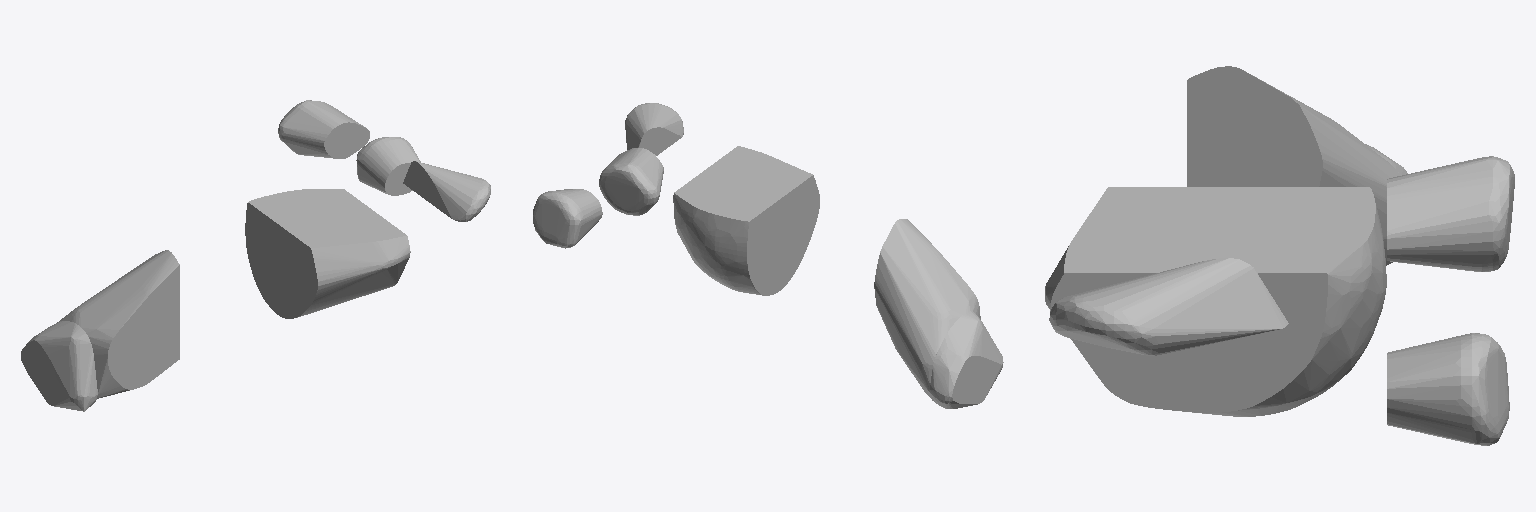
URDF robot description (root):
<robot name="root">
  <link name="link_coacd_convex_piece_0">
    <inertial>
      <origin xyz="0 0 0" rpy="0 0 0"/>
      <inertia ixx="1.80E-09" ixy="-1.58E-09" ixz="-1.64E-09" iyy="3.77E-09" iyz="-9.73E-10" izz="3.57E-09"/>
    </inertial>
    <visual>
      <origin xyz="0 0 0" rpy="0 0 0"/>
      <geometry>
        <mesh filename="coacd_convex_piece_0.obj" scale="1.0000E+00 1.0000E+00 1.0000E+00"/>
      </geometry>
      <material name="">
        <color rgba="7.50E-01 7.50E-01 7.50E-01 1"/>
      </material>
    </visual>
    <collision>
      <origin xyz="0 0 0" rpy="0 0 0"/>
      <geometry>
        <mesh filename="coacd_convex_piece_0.obj" scale="1.0000E+00 1.0000E+00 1.0000E+00"/>
      </geometry>
    </collision>
  </link>
  <link name="link_coacd_convex_piece_1">
    <inertial>
      <origin xyz="0 0 0" rpy="0 0 0"/>
      <inertia ixx="6.96E-10" ixy="-1.86E-09" ixz="-7.25E-10" iyy="5.26E-09" iyz="-3.09E-10" izz="5.77E-09"/>
    </inertial>
    <visual>
      <origin xyz="0 0 0" rpy="0 0 0"/>
      <geometry>
        <mesh filename="coacd_convex_piece_1.obj" scale="1.0000E+00 1.0000E+00 1.0000E+00"/>
      </geometry>
      <material name="">
        <color rgba="7.50E-01 7.50E-01 7.50E-01 1"/>
      </material>
    </visual>
    <collision>
      <origin xyz="0 0 0" rpy="0 0 0"/>
      <geometry>
        <mesh filename="coacd_convex_piece_1.obj" scale="1.0000E+00 1.0000E+00 1.0000E+00"/>
      </geometry>
    </collision>
  </link>
  <joint name="link_coacd_convex_piece_1_joint" type="fixed">
    <origin xyz="0 0 0" rpy="0 0 0"/>
    <parent link="link_coacd_convex_piece_0"/>
    <child link="link_coacd_convex_piece_1"/>
  </joint>
  <link name="link_coacd_convex_piece_2">
    <inertial>
      <origin xyz="0 0 0" rpy="0 0 0"/>
      <inertia ixx="9.32E-10" ixy="-8.90E-11" ixz="5.58E-11" iyy="-7.29E-11" iyz="-1.50E-11" izz="8.99E-10"/>
    </inertial>
    <visual>
      <origin xyz="0 0 0" rpy="0 0 0"/>
      <geometry>
        <mesh filename="coacd_convex_piece_2.obj" scale="1.0000E+00 1.0000E+00 1.0000E+00"/>
      </geometry>
      <material name="">
        <color rgba="7.50E-01 7.50E-01 7.50E-01 1"/>
      </material>
    </visual>
    <collision>
      <origin xyz="0 0 0" rpy="0 0 0"/>
      <geometry>
        <mesh filename="coacd_convex_piece_2.obj" scale="1.0000E+00 1.0000E+00 1.0000E+00"/>
      </geometry>
    </collision>
  </link>
  <joint name="link_coacd_convex_piece_2_joint" type="fixed">
    <origin xyz="0 0 0" rpy="0 0 0"/>
    <parent link="link_coacd_convex_piece_1"/>
    <child link="link_coacd_convex_piece_2"/>
  </joint>
  <link name="link_coacd_convex_piece_3">
    <inertial>
      <origin xyz="0 0 0" rpy="0 0 0"/>
      <inertia ixx="2.76E-10" ixy="-6.95E-10" ixz="-1.98E-10" iyy="1.62E-09" iyz="-1.10E-10" izz="1.85E-09"/>
    </inertial>
    <visual>
      <origin xyz="0 0 0" rpy="0 0 0"/>
      <geometry>
        <mesh filename="coacd_convex_piece_3.obj" scale="1.0000E+00 1.0000E+00 1.0000E+00"/>
      </geometry>
      <material name="">
        <color rgba="7.50E-01 7.50E-01 7.50E-01 1"/>
      </material>
    </visual>
    <collision>
      <origin xyz="0 0 0" rpy="0 0 0"/>
      <geometry>
        <mesh filename="coacd_convex_piece_3.obj" scale="1.0000E+00 1.0000E+00 1.0000E+00"/>
      </geometry>
    </collision>
  </link>
  <joint name="link_coacd_convex_piece_3_joint" type="fixed">
    <origin xyz="0 0 0" rpy="0 0 0"/>
    <parent link="link_coacd_convex_piece_2"/>
    <child link="link_coacd_convex_piece_3"/>
  </joint>
  <link name="link_coacd_convex_piece_4">
    <inertial>
      <origin xyz="0 0 0" rpy="0 0 0"/>
      <inertia ixx="7.72E-10" ixy="1.19E-09" ixz="-1.23E-09" iyy="4.30E-09" iyz="3.58E-10" izz="4.30E-09"/>
    </inertial>
    <visual>
      <origin xyz="0 0 0" rpy="0 0 0"/>
      <geometry>
        <mesh filename="coacd_convex_piece_4.obj" scale="1.0000E+00 1.0000E+00 1.0000E+00"/>
      </geometry>
      <material name="">
        <color rgba="7.50E-01 7.50E-01 7.50E-01 1"/>
      </material>
    </visual>
    <collision>
      <origin xyz="0 0 0" rpy="0 0 0"/>
      <geometry>
        <mesh filename="coacd_convex_piece_4.obj" scale="1.0000E+00 1.0000E+00 1.0000E+00"/>
      </geometry>
    </collision>
  </link>
  <joint name="link_coacd_convex_piece_4_joint" type="fixed">
    <origin xyz="0 0 0" rpy="0 0 0"/>
    <parent link="link_coacd_convex_piece_3"/>
    <child link="link_coacd_convex_piece_4"/>
  </joint>
  <link name="link_coacd_convex_piece_5">
    <inertial>
      <origin xyz="0 0 0" rpy="0 0 0"/>
      <inertia ixx="2.10E-09" ixy="-2.93E-09" ixz="-1.32E-09" iyy="5.38E-09" iyz="-9.49E-10" izz="6.27E-09"/>
    </inertial>
    <visual>
      <origin xyz="0 0 0" rpy="0 0 0"/>
      <geometry>
        <mesh filename="coacd_convex_piece_5.obj" scale="1.0000E+00 1.0000E+00 1.0000E+00"/>
      </geometry>
      <material name="">
        <color rgba="7.50E-01 7.50E-01 7.50E-01 1"/>
      </material>
    </visual>
    <collision>
      <origin xyz="0 0 0" rpy="0 0 0"/>
      <geometry>
        <mesh filename="coacd_convex_piece_5.obj" scale="1.0000E+00 1.0000E+00 1.0000E+00"/>
      </geometry>
    </collision>
  </link>
  <joint name="link_coacd_convex_piece_5_joint" type="fixed">
    <origin xyz="0 0 0" rpy="0 0 0"/>
    <parent link="link_coacd_convex_piece_4"/>
    <child link="link_coacd_convex_piece_5"/>
  </joint>
  <link name="link_coacd_convex_piece_6">
    <inertial>
      <origin xyz="0 0 0" rpy="0 0 0"/>
      <inertia ixx="1.08E-09" ixy="-9.00E-10" ixz="-2.57E-09" iyy="1.32E-08" iyz="-3.04E-10" izz="1.24E-08"/>
    </inertial>
    <visual>
      <origin xyz="0 0 0" rpy="0 0 0"/>
      <geometry>
        <mesh filename="coacd_convex_piece_6.obj" scale="1.0000E+00 1.0000E+00 1.0000E+00"/>
      </geometry>
      <material name="">
        <color rgba="7.50E-01 7.50E-01 7.50E-01 1"/>
      </material>
    </visual>
    <collision>
      <origin xyz="0 0 0" rpy="0 0 0"/>
      <geometry>
        <mesh filename="coacd_convex_piece_6.obj" scale="1.0000E+00 1.0000E+00 1.0000E+00"/>
      </geometry>
    </collision>
  </link>
  <joint name="link_coacd_convex_piece_6_joint" type="fixed">
    <origin xyz="0 0 0" rpy="0 0 0"/>
    <parent link="link_coacd_convex_piece_5"/>
    <child link="link_coacd_convex_piece_6"/>
  </joint>
  <link name="link_coacd_convex_piece_7">
    <inertial>
      <origin xyz="0 0 0" rpy="0 0 0"/>
      <inertia ixx="2.28E-09" ixy="-1.54E-10" ixz="9.23E-11" iyy="9.18E-10" iyz="9.61E-11" izz="1.02E-09"/>
    </inertial>
    <visual>
      <origin xyz="0 0 0" rpy="0 0 0"/>
      <geometry>
        <mesh filename="coacd_convex_piece_7.obj" scale="1.0000E+00 1.0000E+00 1.0000E+00"/>
      </geometry>
      <material name="">
        <color rgba="7.50E-01 7.50E-01 7.50E-01 1"/>
      </material>
    </visual>
    <collision>
      <origin xyz="0 0 0" rpy="0 0 0"/>
      <geometry>
        <mesh filename="coacd_convex_piece_7.obj" scale="1.0000E+00 1.0000E+00 1.0000E+00"/>
      </geometry>
    </collision>
  </link>
  <joint name="link_coacd_convex_piece_7_joint" type="fixed">
    <origin xyz="0 0 0" rpy="0 0 0"/>
    <parent link="link_coacd_convex_piece_6"/>
    <child link="link_coacd_convex_piece_7"/>
  </joint>
  <link name="link_coacd_convex_piece_8">
    <inertial>
      <origin xyz="0 0 0" rpy="0 0 0"/>
      <inertia ixx="2.67E-09" ixy="2.41E-09" ixz="-8.47E-10" iyy="8.68E-09" iyz="1.14E-10" izz="1.04E-08"/>
    </inertial>
    <visual>
      <origin xyz="0 0 0" rpy="0 0 0"/>
      <geometry>
        <mesh filename="coacd_convex_piece_8.obj" scale="1.0000E+00 1.0000E+00 1.0000E+00"/>
      </geometry>
      <material name="">
        <color rgba="7.50E-01 7.50E-01 7.50E-01 1"/>
      </material>
    </visual>
    <collision>
      <origin xyz="0 0 0" rpy="0 0 0"/>
      <geometry>
        <mesh filename="coacd_convex_piece_8.obj" scale="1.0000E+00 1.0000E+00 1.0000E+00"/>
      </geometry>
    </collision>
  </link>
  <joint name="link_coacd_convex_piece_8_joint" type="fixed">
    <origin xyz="0 0 0" rpy="0 0 0"/>
    <parent link="link_coacd_convex_piece_7"/>
    <child link="link_coacd_convex_piece_8"/>
  </joint>
  <link name="link_coacd_convex_piece_9">
    <inertial>
      <origin xyz="0 0 0" rpy="0 0 0"/>
      <inertia ixx="3.67E-09" ixy="-2.48E-09" ixz="1.26E-09" iyy="4.08E-09" iyz="-3.94E-10" izz="5.13E-09"/>
    </inertial>
    <visual>
      <origin xyz="0 0 0" rpy="0 0 0"/>
      <geometry>
        <mesh filename="coacd_convex_piece_9.obj" scale="1.0000E+00 1.0000E+00 1.0000E+00"/>
      </geometry>
      <material name="">
        <color rgba="7.50E-01 7.50E-01 7.50E-01 1"/>
      </material>
    </visual>
    <collision>
      <origin xyz="0 0 0" rpy="0 0 0"/>
      <geometry>
        <mesh filename="coacd_convex_piece_9.obj" scale="1.0000E+00 1.0000E+00 1.0000E+00"/>
      </geometry>
    </collision>
  </link>
  <joint name="link_coacd_convex_piece_9_joint" type="fixed">
    <origin xyz="0 0 0" rpy="0 0 0"/>
    <parent link="link_coacd_convex_piece_8"/>
    <child link="link_coacd_convex_piece_9"/>
  </joint>
  <link name="link_coacd_convex_piece_10">
    <inertial>
      <origin xyz="0 0 0" rpy="0 0 0"/>
      <inertia ixx="4.13E-09" ixy="2.26E-09" ixz="-5.75E-09" iyy="1.42E-08" iyz="1.13E-09" izz="1.19E-08"/>
    </inertial>
    <visual>
      <origin xyz="0 0 0" rpy="0 0 0"/>
      <geometry>
        <mesh filename="coacd_convex_piece_10.obj" scale="1.0000E+00 1.0000E+00 1.0000E+00"/>
      </geometry>
      <material name="">
        <color rgba="7.50E-01 7.50E-01 7.50E-01 1"/>
      </material>
    </visual>
    <collision>
      <origin xyz="0 0 0" rpy="0 0 0"/>
      <geometry>
        <mesh filename="coacd_convex_piece_10.obj" scale="1.0000E+00 1.0000E+00 1.0000E+00"/>
      </geometry>
    </collision>
  </link>
  <joint name="link_coacd_convex_piece_10_joint" type="fixed">
    <origin xyz="0 0 0" rpy="0 0 0"/>
    <parent link="link_coacd_convex_piece_9"/>
    <child link="link_coacd_convex_piece_10"/>
  </joint>
  <link name="link_coacd_convex_piece_11">
    <inertial>
      <origin xyz="0 0 0" rpy="0 0 0"/>
      <inertia ixx="2.56E-09" ixy="4.97E-10" ixz="-1.88E-09" iyy="3.96E-09" iyz="5.38E-10" izz="2.33E-09"/>
    </inertial>
    <visual>
      <origin xyz="0 0 0" rpy="0 0 0"/>
      <geometry>
        <mesh filename="coacd_convex_piece_11.obj" scale="1.0000E+00 1.0000E+00 1.0000E+00"/>
      </geometry>
      <material name="">
        <color rgba="7.50E-01 7.50E-01 7.50E-01 1"/>
      </material>
    </visual>
    <collision>
      <origin xyz="0 0 0" rpy="0 0 0"/>
      <geometry>
        <mesh filename="coacd_convex_piece_11.obj" scale="1.0000E+00 1.0000E+00 1.0000E+00"/>
      </geometry>
    </collision>
  </link>
  <joint name="link_coacd_convex_piece_11_joint" type="fixed">
    <origin xyz="0 0 0" rpy="0 0 0"/>
    <parent link="link_coacd_convex_piece_10"/>
    <child link="link_coacd_convex_piece_11"/>
  </joint>
  <link name="link_coacd_convex_piece_12">
    <inertial>
      <origin xyz="0 0 0" rpy="0 0 0"/>
      <inertia ixx="6.66E-10" ixy="2.63E-10" ixz="-1.82E-09" iyy="6.41E-09" iyz="4.99E-11" izz="5.87E-09"/>
    </inertial>
    <visual>
      <origin xyz="0 0 0" rpy="0 0 0"/>
      <geometry>
        <mesh filename="coacd_convex_piece_12.obj" scale="1.0000E+00 1.0000E+00 1.0000E+00"/>
      </geometry>
      <material name="">
        <color rgba="7.50E-01 7.50E-01 7.50E-01 1"/>
      </material>
    </visual>
    <collision>
      <origin xyz="0 0 0" rpy="0 0 0"/>
      <geometry>
        <mesh filename="coacd_convex_piece_12.obj" scale="1.0000E+00 1.0000E+00 1.0000E+00"/>
      </geometry>
    </collision>
  </link>
  <joint name="link_coacd_convex_piece_12_joint" type="fixed">
    <origin xyz="0 0 0" rpy="0 0 0"/>
    <parent link="link_coacd_convex_piece_11"/>
    <child link="link_coacd_convex_piece_12"/>
  </joint>
  <link name="link_coacd_convex_piece_13">
    <inertial>
      <origin xyz="0 0 0" rpy="0 0 0"/>
      <inertia ixx="1.62E-09" ixy="3.95E-09" ixz="-1.95E-09" iyy="1.64E-08" iyz="4.14E-10" izz="1.74E-08"/>
    </inertial>
    <visual>
      <origin xyz="0 0 0" rpy="0 0 0"/>
      <geometry>
        <mesh filename="coacd_convex_piece_13.obj" scale="1.0000E+00 1.0000E+00 1.0000E+00"/>
      </geometry>
      <material name="">
        <color rgba="7.50E-01 7.50E-01 7.50E-01 1"/>
      </material>
    </visual>
    <collision>
      <origin xyz="0 0 0" rpy="0 0 0"/>
      <geometry>
        <mesh filename="coacd_convex_piece_13.obj" scale="1.0000E+00 1.0000E+00 1.0000E+00"/>
      </geometry>
    </collision>
  </link>
  <joint name="link_coacd_convex_piece_13_joint" type="fixed">
    <origin xyz="0 0 0" rpy="0 0 0"/>
    <parent link="link_coacd_convex_piece_12"/>
    <child link="link_coacd_convex_piece_13"/>
  </joint>
  <link name="link_coacd_convex_piece_14">
    <inertial>
      <origin xyz="0 0 0" rpy="0 0 0"/>
      <inertia ixx="1.20E-09" ixy="5.61E-10" ixz="3.97E-10" iyy="6.02E-10" iyz="-5.60E-10" izz="1.29E-09"/>
    </inertial>
    <visual>
      <origin xyz="0 0 0" rpy="0 0 0"/>
      <geometry>
        <mesh filename="coacd_convex_piece_14.obj" scale="1.0000E+00 1.0000E+00 1.0000E+00"/>
      </geometry>
      <material name="">
        <color rgba="7.50E-01 7.50E-01 7.50E-01 1"/>
      </material>
    </visual>
    <collision>
      <origin xyz="0 0 0" rpy="0 0 0"/>
      <geometry>
        <mesh filename="coacd_convex_piece_14.obj" scale="1.0000E+00 1.0000E+00 1.0000E+00"/>
      </geometry>
    </collision>
  </link>
  <joint name="link_coacd_convex_piece_14_joint" type="fixed">
    <origin xyz="0 0 0" rpy="0 0 0"/>
    <parent link="link_coacd_convex_piece_13"/>
    <child link="link_coacd_convex_piece_14"/>
  </joint>
  <link name="link_coacd_convex_piece_15">
    <inertial>
      <origin xyz="0 0 0" rpy="0 0 0"/>
      <inertia ixx="4.72E-10" ixy="1.45E-10" ixz="-1.27E-09" iyy="3.95E-09" iyz="2.78E-11" izz="3.49E-09"/>
    </inertial>
    <visual>
      <origin xyz="0 0 0" rpy="0 0 0"/>
      <geometry>
        <mesh filename="coacd_convex_piece_15.obj" scale="1.0000E+00 1.0000E+00 1.0000E+00"/>
      </geometry>
      <material name="">
        <color rgba="7.50E-01 7.50E-01 7.50E-01 1"/>
      </material>
    </visual>
    <collision>
      <origin xyz="0 0 0" rpy="0 0 0"/>
      <geometry>
        <mesh filename="coacd_convex_piece_15.obj" scale="1.0000E+00 1.0000E+00 1.0000E+00"/>
      </geometry>
    </collision>
  </link>
  <joint name="link_coacd_convex_piece_15_joint" type="fixed">
    <origin xyz="0 0 0" rpy="0 0 0"/>
    <parent link="link_coacd_convex_piece_14"/>
    <child link="link_coacd_convex_piece_15"/>
  </joint>
  <link name="link_coacd_convex_piece_16">
    <inertial>
      <origin xyz="0 0 0" rpy="0 0 0"/>
      <inertia ixx="1.33E-10" ixy="-8.06E-10" ixz="-8.72E-10" iyy="6.52E-09" iyz="-1.78E-10" izz="6.42E-09"/>
    </inertial>
    <visual>
      <origin xyz="0 0 0" rpy="0 0 0"/>
      <geometry>
        <mesh filename="coacd_convex_piece_16.obj" scale="1.0000E+00 1.0000E+00 1.0000E+00"/>
      </geometry>
      <material name="">
        <color rgba="7.50E-01 7.50E-01 7.50E-01 1"/>
      </material>
    </visual>
    <collision>
      <origin xyz="0 0 0" rpy="0 0 0"/>
      <geometry>
        <mesh filename="coacd_convex_piece_16.obj" scale="1.0000E+00 1.0000E+00 1.0000E+00"/>
      </geometry>
    </collision>
  </link>
  <joint name="link_coacd_convex_piece_16_joint" type="fixed">
    <origin xyz="0 0 0" rpy="0 0 0"/>
    <parent link="link_coacd_convex_piece_15"/>
    <child link="link_coacd_convex_piece_16"/>
  </joint>
  <link name="link_coacd_convex_piece_17">
    <inertial>
      <origin xyz="0 0 0" rpy="0 0 0"/>
      <inertia ixx="4.45E-10" ixy="-3.37E-10" ixz="-6.98E-10" iyy="1.65E-09" iyz="-1.97E-10" izz="1.30E-09"/>
    </inertial>
    <visual>
      <origin xyz="0 0 0" rpy="0 0 0"/>
      <geometry>
        <mesh filename="coacd_convex_piece_17.obj" scale="1.0000E+00 1.0000E+00 1.0000E+00"/>
      </geometry>
      <material name="">
        <color rgba="7.50E-01 7.50E-01 7.50E-01 1"/>
      </material>
    </visual>
    <collision>
      <origin xyz="0 0 0" rpy="0 0 0"/>
      <geometry>
        <mesh filename="coacd_convex_piece_17.obj" scale="1.0000E+00 1.0000E+00 1.0000E+00"/>
      </geometry>
    </collision>
  </link>
  <joint name="link_coacd_convex_piece_17_joint" type="fixed">
    <origin xyz="0 0 0" rpy="0 0 0"/>
    <parent link="link_coacd_convex_piece_16"/>
    <child link="link_coacd_convex_piece_17"/>
  </joint>
</robot>

--- What the picture shows (computed from the rendered views, not written in the file) ---
3 views of the same robot in one strip: view 1: azimuth 30°, elevation 25°; view 2: azimuth 150°, elevation 25°; view 3: azimuth 270°, elevation 25° (orthographic).
Robot: root — 18 links, 17 joints (17 fixed); root link link_coacd_convex_piece_0; default pose: all joints at 0.
Links seen in each view (by area): view 1: link_coacd_convex_piece_8, link_coacd_convex_piece_6, link_coacd_convex_piece_12, link_coacd_convex_piece_0, link_coacd_convex_piece_4, link_coacd_convex_piece_1; view 2: link_coacd_convex_piece_8, link_coacd_convex_piece_6, link_coacd_convex_piece_12, link_coacd_convex_piece_0, link_coacd_convex_piece_1, link_coacd_convex_piece_4; view 3: link_coacd_convex_piece_8, link_coacd_convex_piece_6, link_coacd_convex_piece_4, link_coacd_convex_piece_0, link_coacd_convex_piece_1.
Boxes of the visible links, x1,y1,x2,y2 form: link_coacd_convex_piece_8: (245,189,410,318); link_coacd_convex_piece_6: (57,250,179,398); link_coacd_convex_piece_12: (21,321,97,411); link_coacd_convex_piece_0: (278,100,369,158); link_coacd_convex_piece_4: (403,161,490,221); link_coacd_convex_piece_1: (356,137,420,195); link_coacd_convex_piece_8: (673,146,819,295); link_coacd_convex_piece_6: (874,219,980,401); link_coacd_convex_piece_12: (930,311,1003,408); link_coacd_convex_piece_0: (599,148,663,215); link_coacd_convex_piece_1: (533,189,602,248); link_coacd_convex_piece_4: (625,103,683,155); link_coacd_convex_piece_8: (1045,187,1386,416); link_coacd_convex_piece_6: (1187,66,1400,265); link_coacd_convex_piece_4: (1049,258,1288,355); link_coacd_convex_piece_0: (1387,156,1514,271); link_coacd_convex_piece_1: (1387,333,1509,445).
Bounding box of the posed robot: 0.1216 × 0.0598 × 0.0567 m (x, y, z).
6 mesh visuals loaded from 18 distinct referenced files (6 OBJ); not drawn: 12 (reference not matched to a file when rendering).